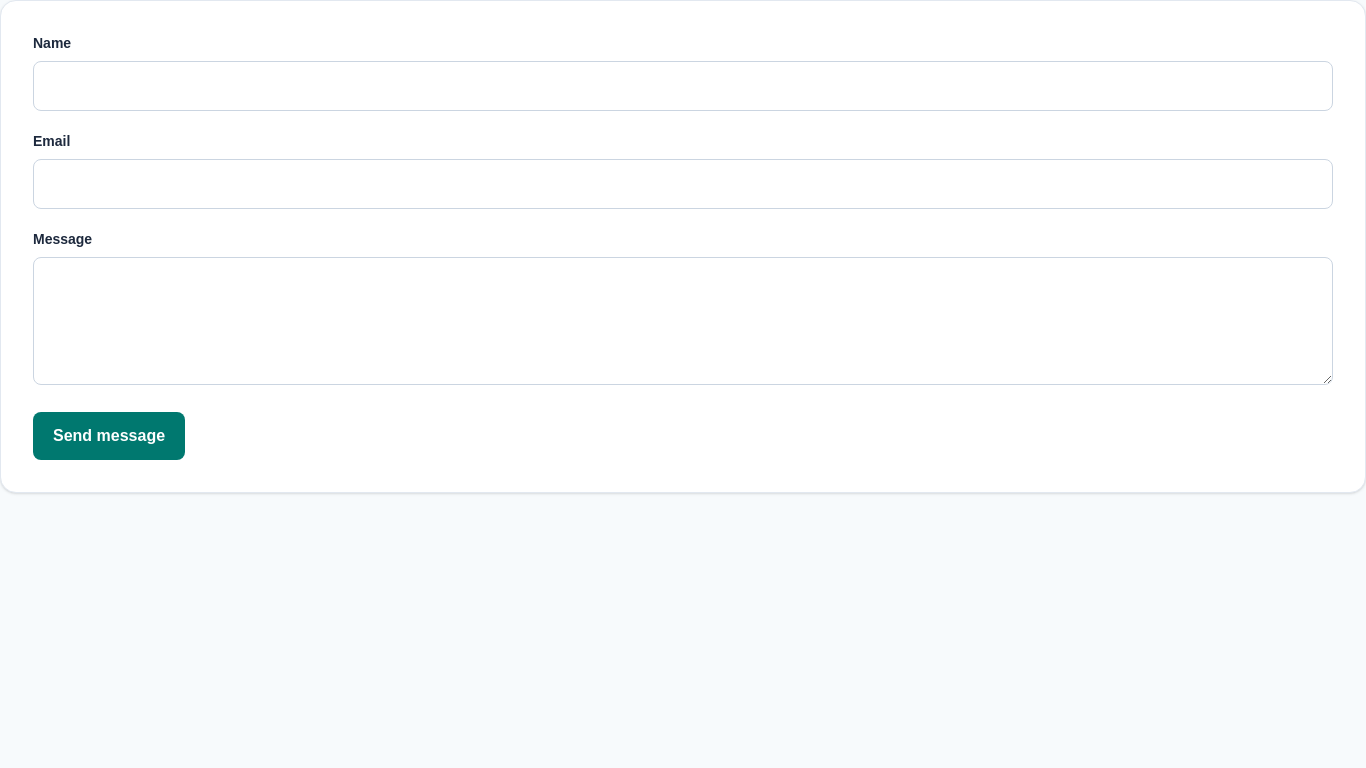
Test case: ContactForm › shows confirmation and clears values after a valid submission
This screenshot has width=1366, height=768.
Type "Ella" into the field labelled "Name".
click(683, 86); type("Ella")  # box [33,61,1333,111]
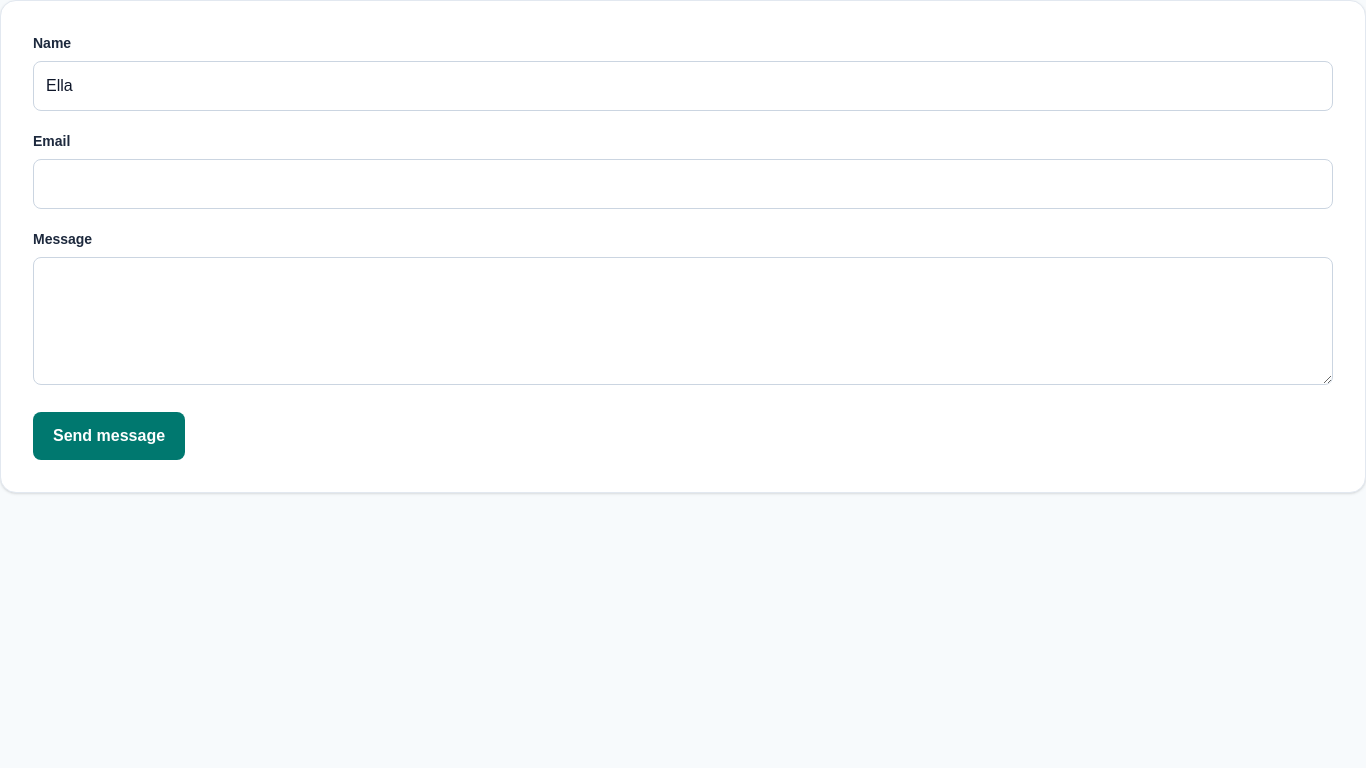
Type "ella@example.com" into the field labelled "Email".
click(683, 184); type("ella@example.com")  # box [33,159,1333,209]
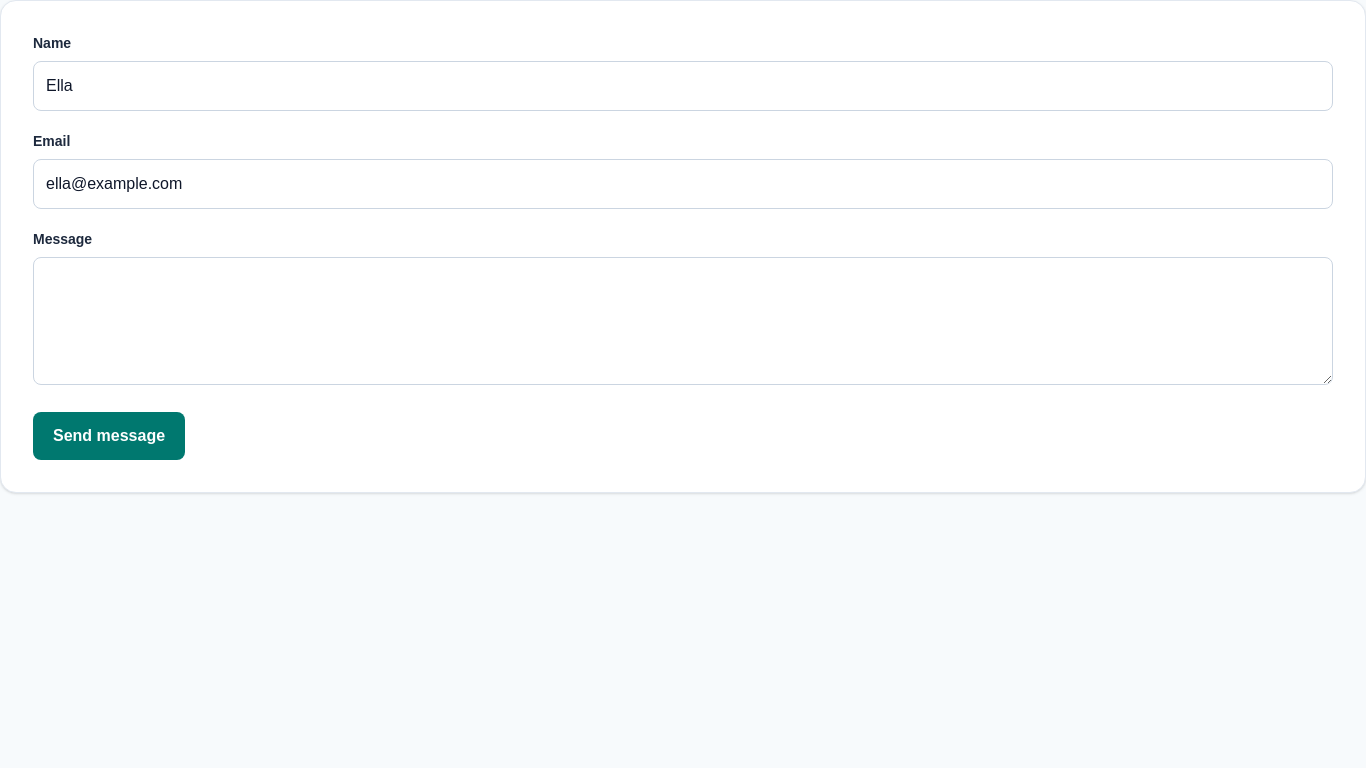
Type "Hello there" into the text box labelled "Message".
click(683, 321); type("Hello there")  # box [33,257,1333,385]
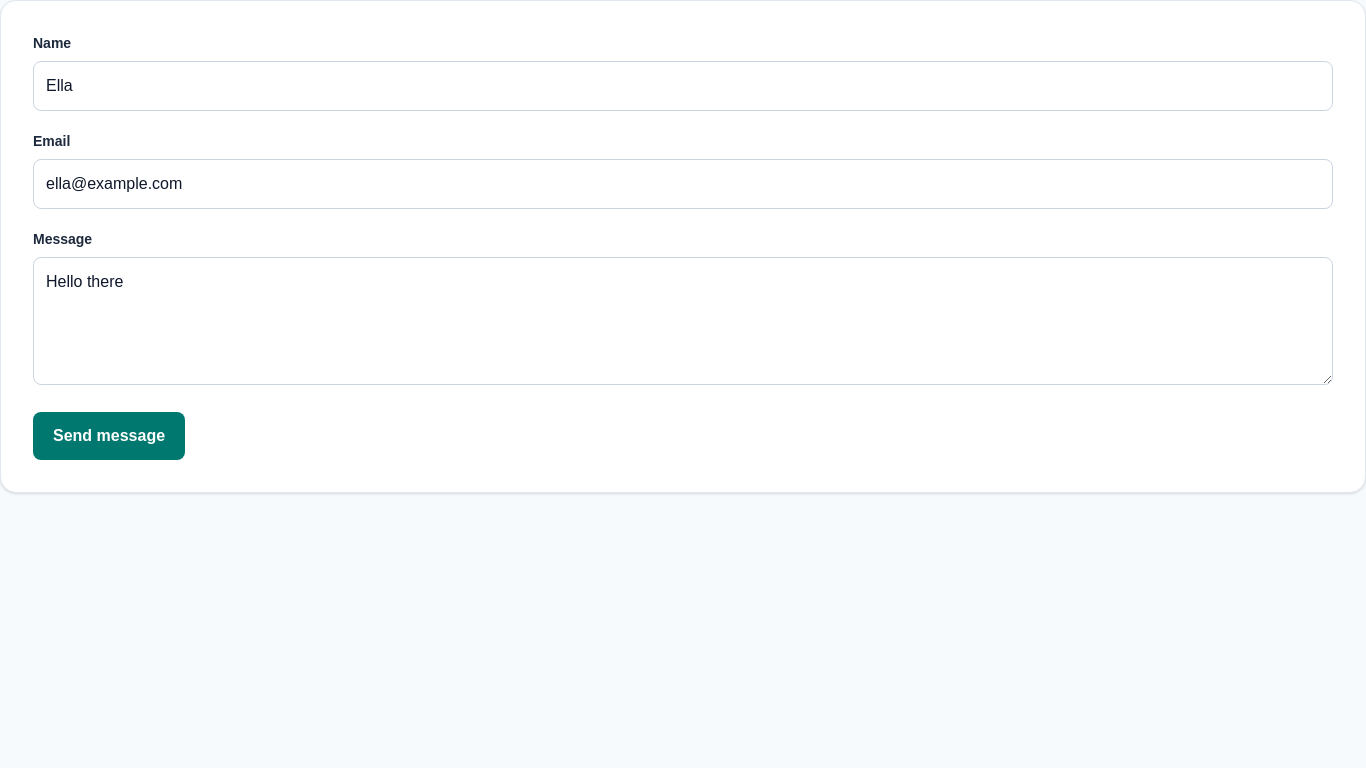
Submit the form "Send message"
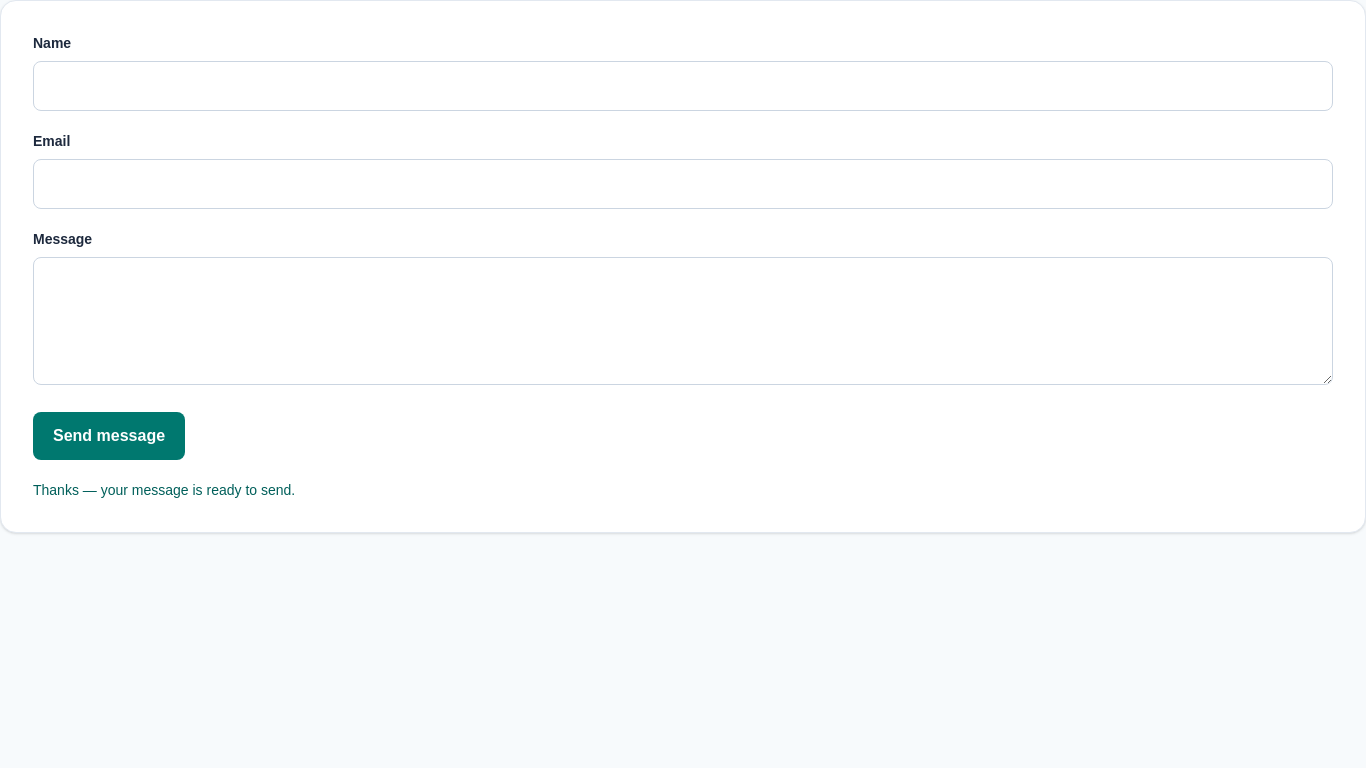
Now the message shows "Thanks", box [33,482,295,498]
Now the field labelled "Name" is empty, box [33,61,1333,111]
Now the field labelled "Email" is empty, box [33,159,1333,209]
